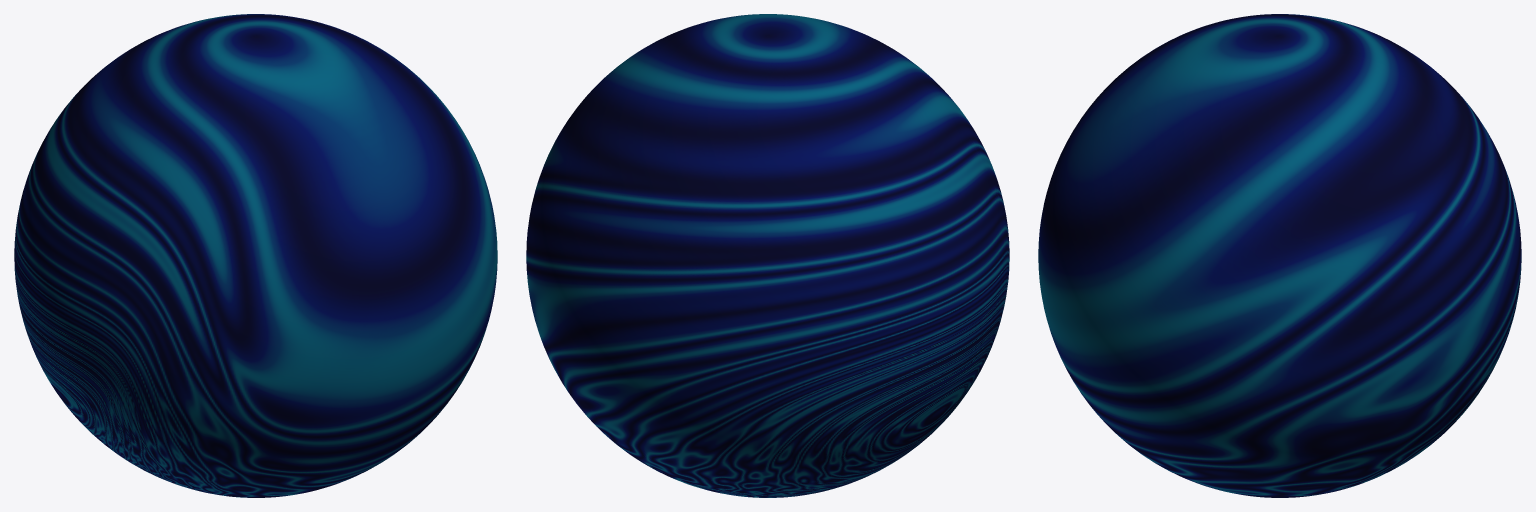
File: neptune unity vers.fbx
3 renders of one model, left to right at view 1: azimuth 30°, elevation 25°; view 2: azimuth 150°, elevation 25°; view 3: azimuth 270°, elevation 25°, orthographic.
Visible parts, largest first — view 1: neptune; view 2: neptune; view 3: neptune.
Part boxes in pixels (x1,y1,x2,y2): neptune: (14,14,497,497); neptune: (526,14,1009,497); neptune: (1038,14,1521,497).
Bounding box in the file's own units: 29904 × 29990 × 29904.
